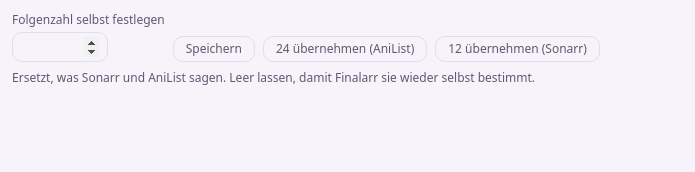
typing a number and saving sends the override
In the number field labelled "Folgenzahl selbst festlegen": (60, 47) x1=12 y1=32 x2=108 y2=62, type "13"
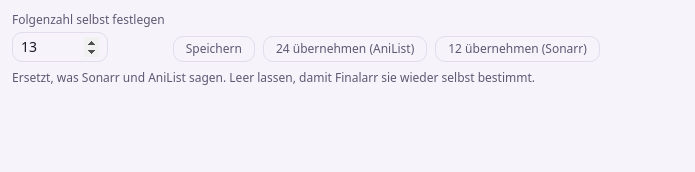
Click the button "Speichern": (214, 49) x1=173 y1=36 x2=255 y2=62
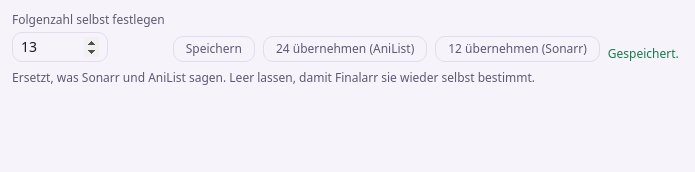
Expected: the text "Gespeichert." is shown, x1=608 y1=45 x2=679 y2=62
